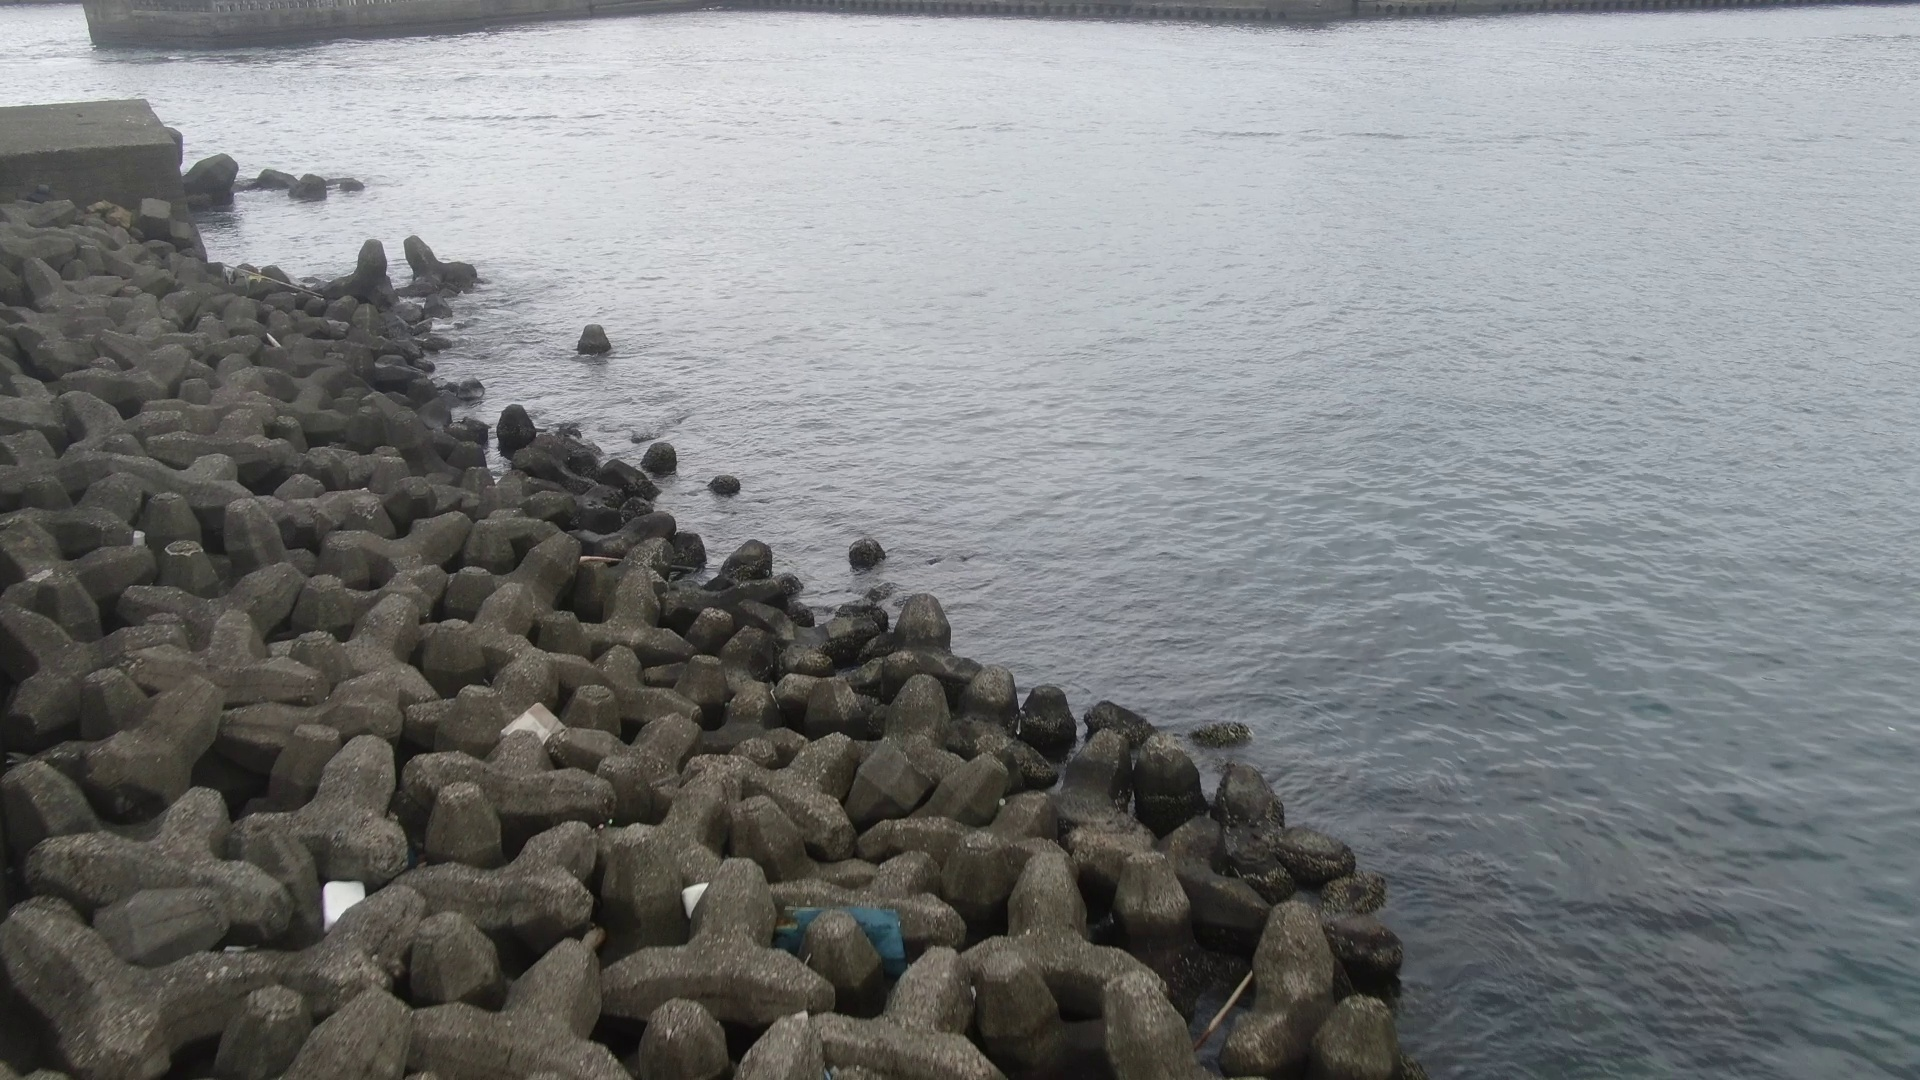garbage: (770, 902, 918, 965), (498, 702, 578, 749), (318, 874, 375, 935), (675, 866, 716, 926)
